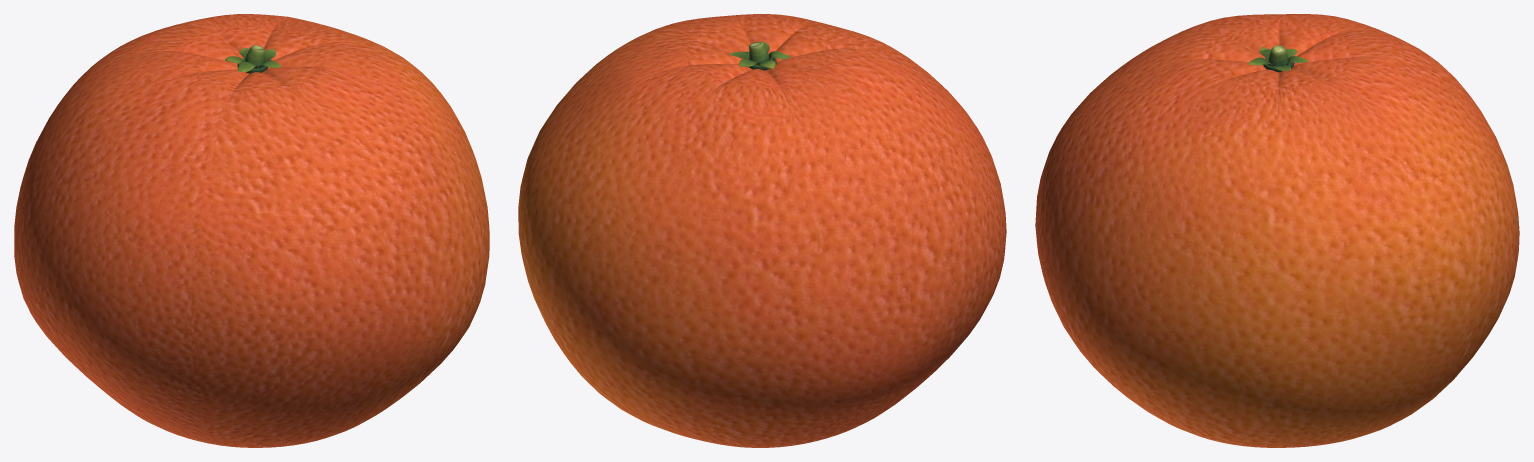
The model's file is ORANGE.glb.
The picture shows the model from 3 angles, left to right: view 1: azimuth 30°, elevation 25°; view 2: azimuth 150°, elevation 25°; view 3: azimuth 270°, elevation 25°; orthographic projection.
Parts seen in each view (by area): view 1: 12204_Fruit_v1_L3; view 2: 12204_Fruit_v1_L3; view 3: 12204_Fruit_v1_L3.
Part boxes in pixels (x1,y1,x2,y2): 12204_Fruit_v1_L3: (14,14,489,447); 12204_Fruit_v1_L3: (518,14,1006,447); 12204_Fruit_v1_L3: (1035,14,1519,447).
Bounding box in the file's own units: 9.52 × 7.87 × 9.53.
1 material, 1 textured.
